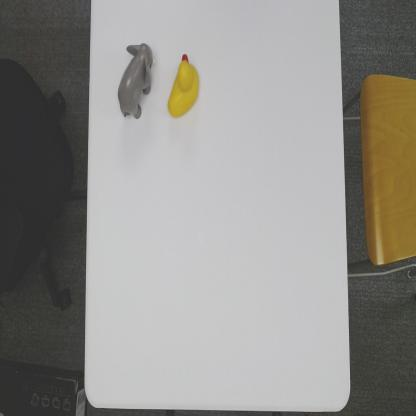Duck: (167, 52, 200, 118)
Elephant: (116, 41, 156, 120)
